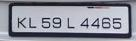4: (79, 17, 89, 29), (91, 17, 101, 29)
5: (112, 17, 124, 30), (41, 17, 51, 28)
6: (102, 17, 112, 30)
9: (52, 17, 64, 30)
K: (15, 17, 27, 29)
L: (66, 17, 77, 30), (28, 17, 37, 30)
